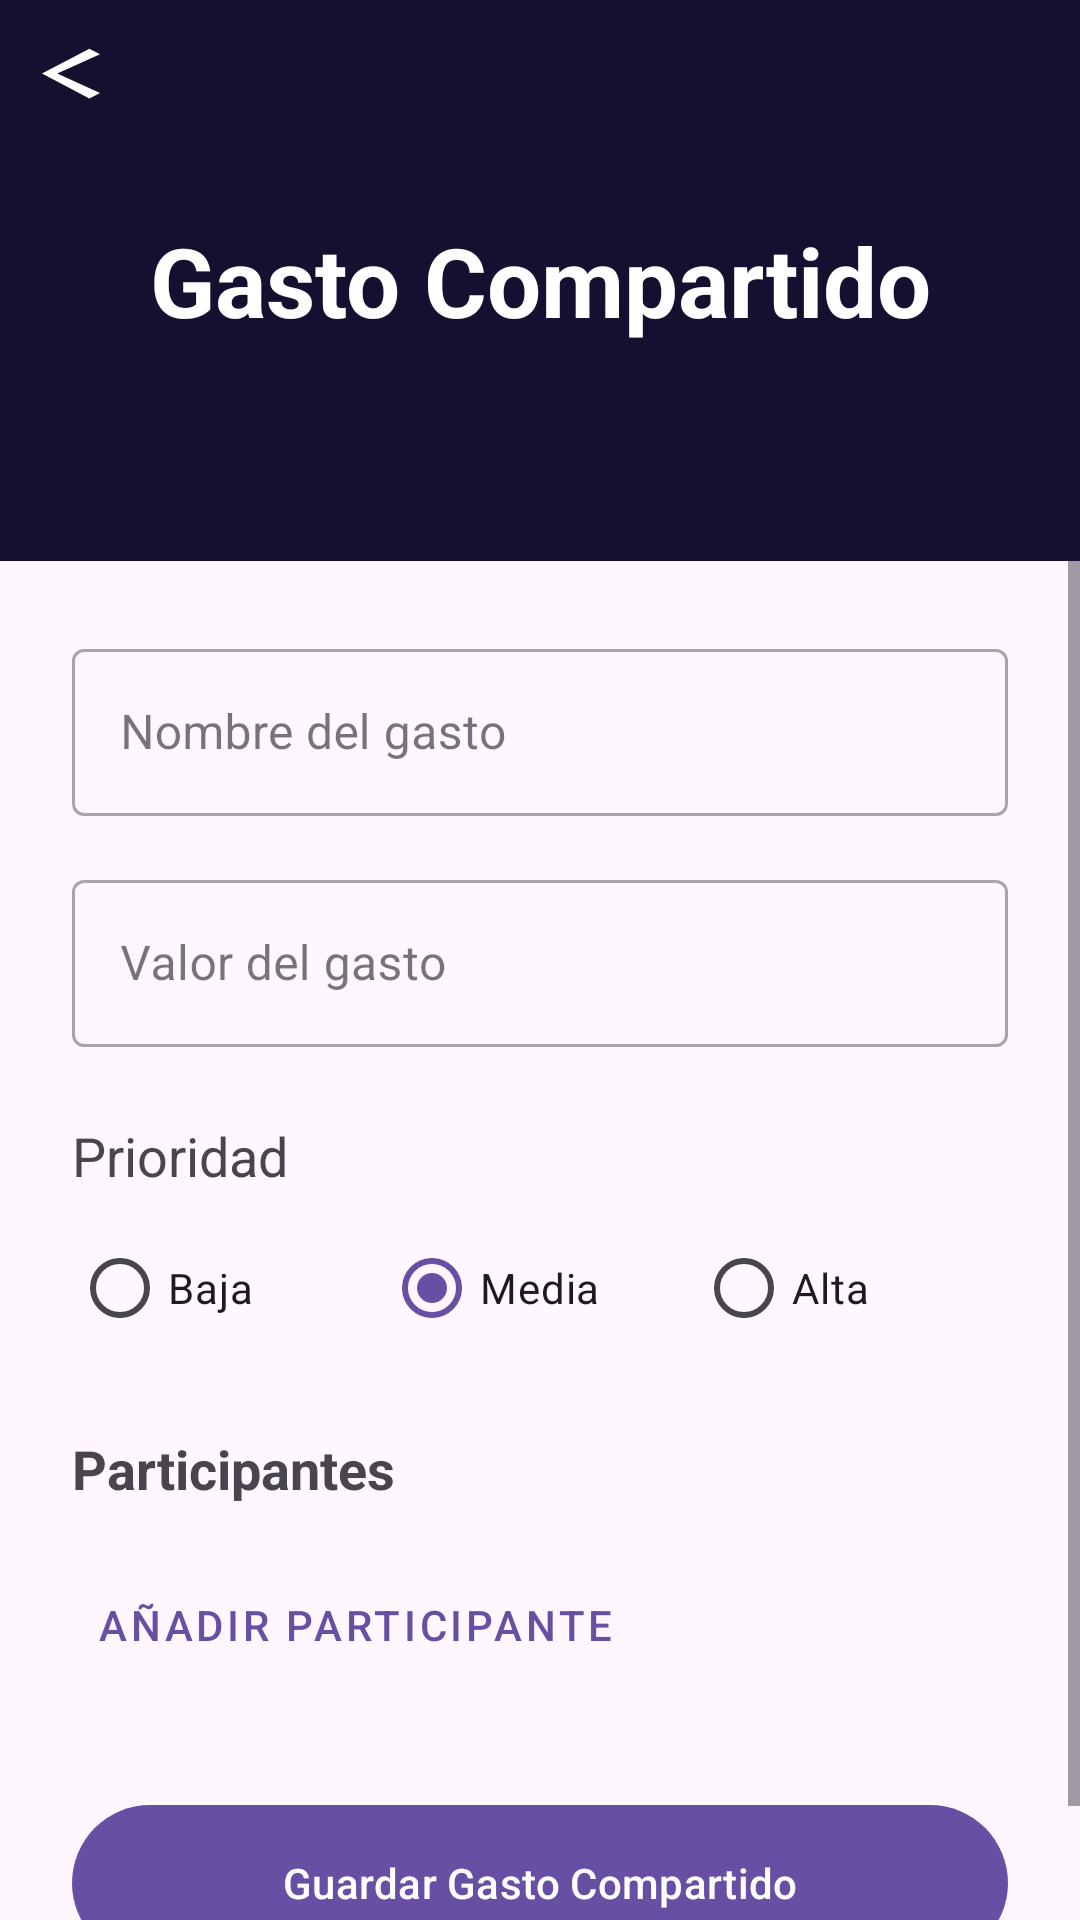

Screen size 1080 × 1920. Icon name, then its center in pixels as (x,y):
Volver: (71,73)
